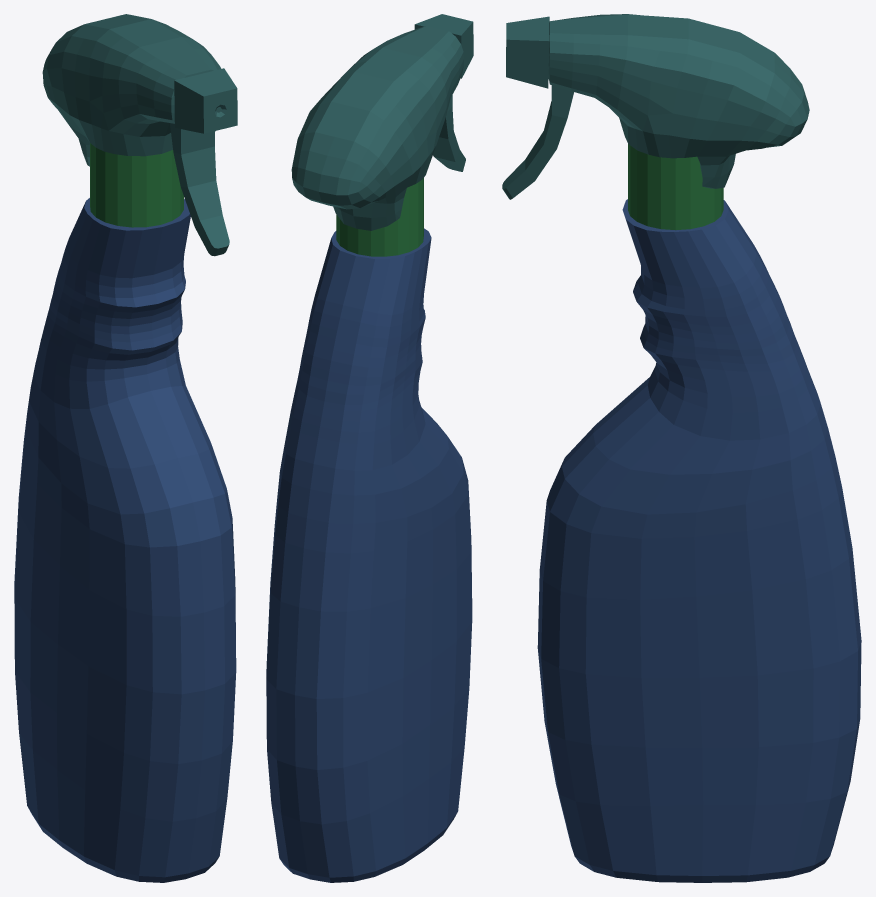
Rendered from Spray.fbx.
3 views of the same model, side by side, from view 1: azimuth 30°, elevation 25°; view 2: azimuth 150°, elevation 25°; view 3: azimuth 270°, elevation 25° (orthographic). The views are drawn at different scales.
Parts seen in each view (by area): view 1: Spray; view 2: Spray; view 3: Spray.
Boxes of the visible parts, left/top/right/bottom form: Spray: left=14, top=14, right=237, bottom=882; Spray: left=266, top=14, right=473, bottom=882; Spray: left=502, top=14, right=861, bottom=882.
Bounding box in the file's own units: 4.9 × 28.58 × 11.18.
Materials: 1 (1 with a texture image).
